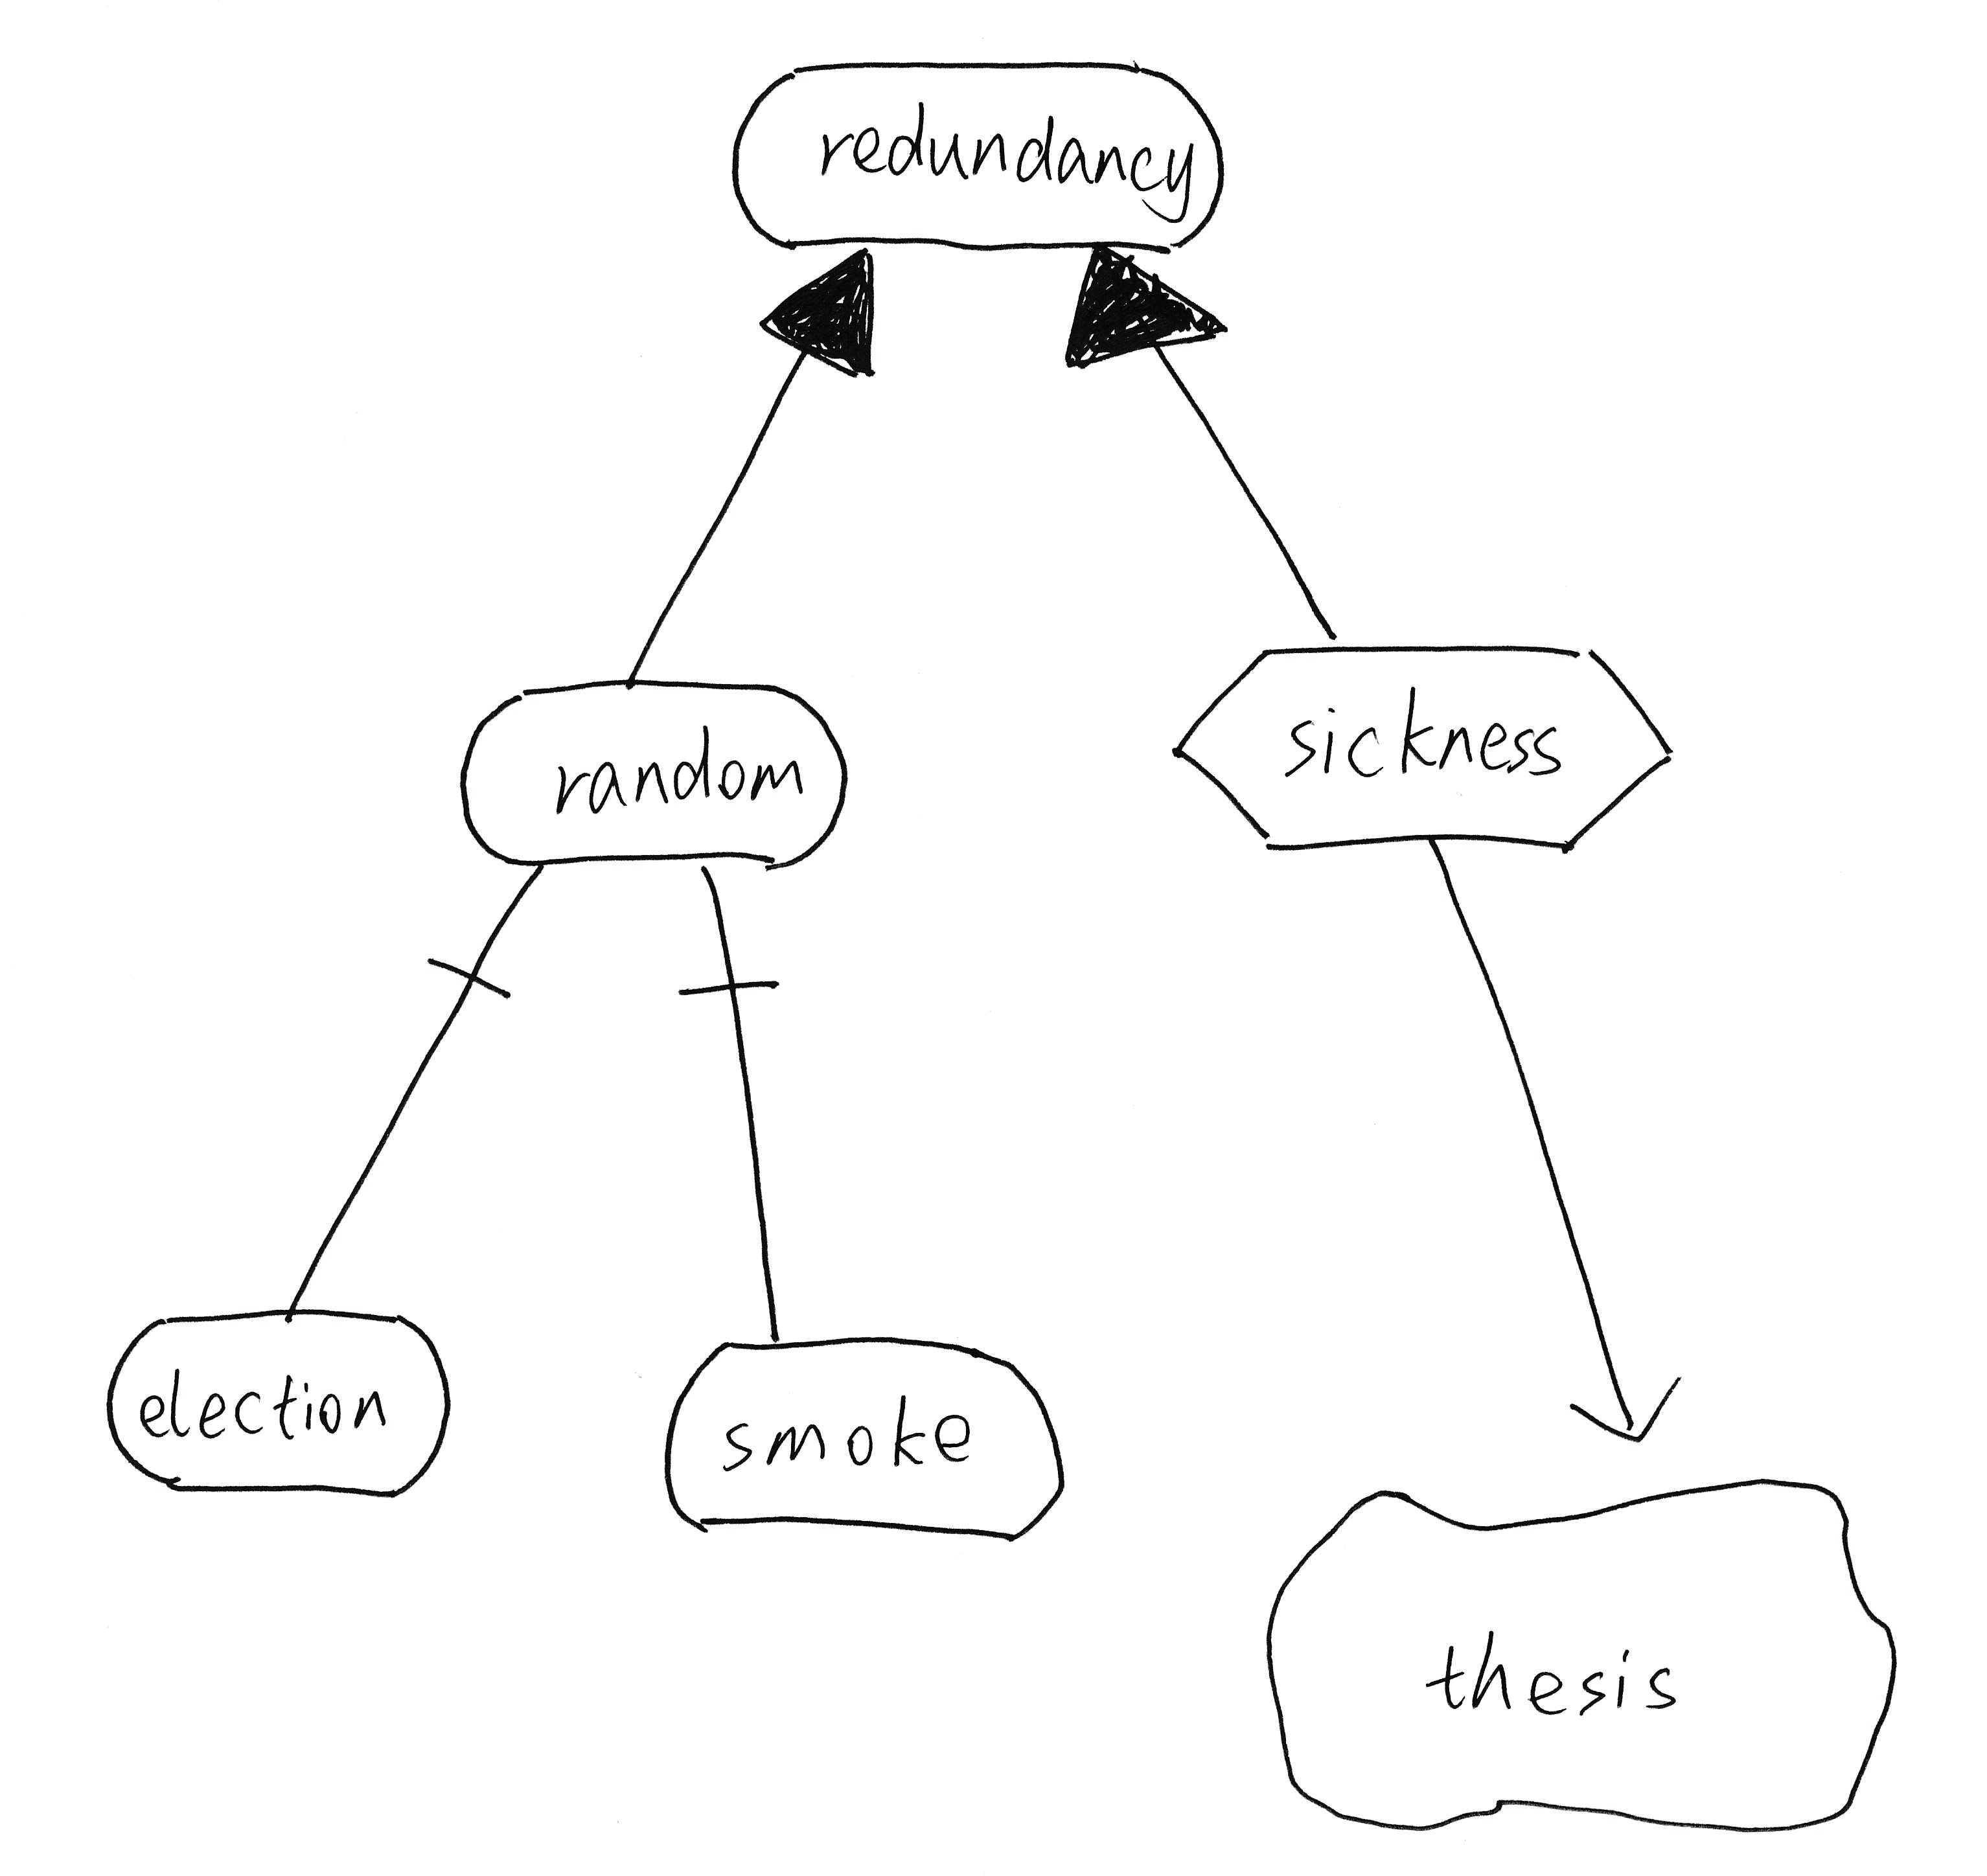and: (425, 853, 559, 1017), (670, 853, 788, 1014)
arrow: (1559, 1365, 1694, 1460)
goal: (716, 41, 1245, 270), (649, 1319, 1088, 1564), (444, 665, 864, 880), (90, 1291, 471, 1515)
or: (1049, 234, 1238, 381), (753, 240, 897, 386)
quality: (1241, 1455, 1916, 1846)
task: (1153, 624, 1691, 869)
